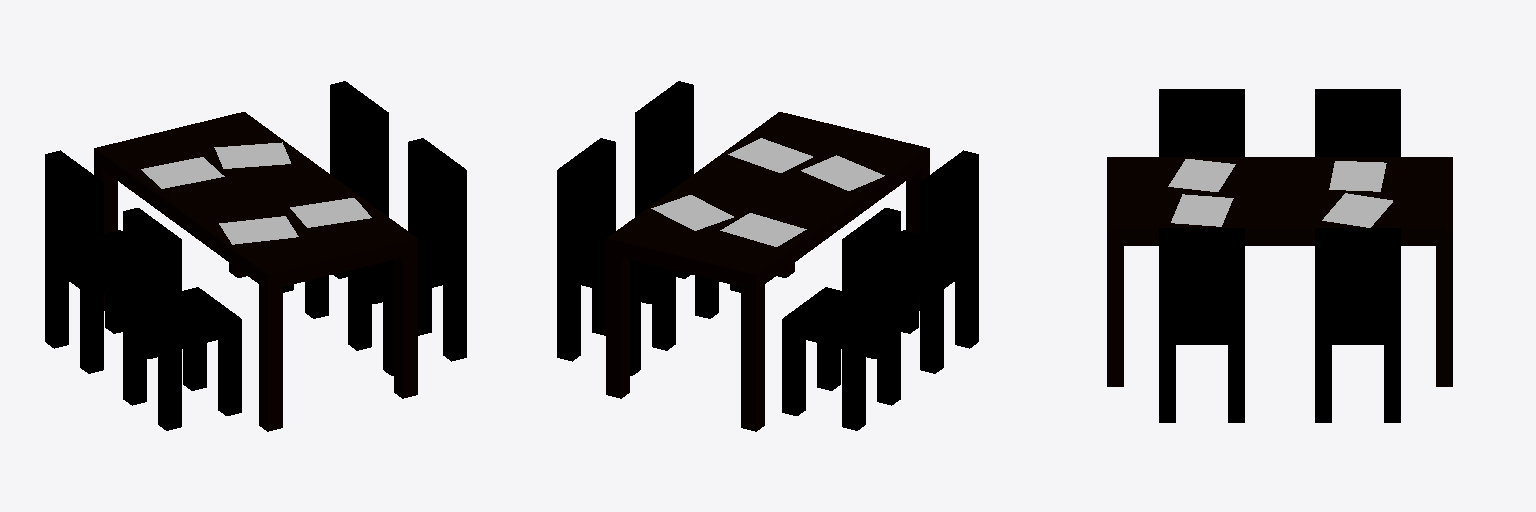
File: RPGTable.obj
3 renders of one model, left to right at view 1: azimuth 30°, elevation 25°; view 2: azimuth 150°, elevation 25°; view 3: azimuth 270°, elevation 25°, orthographic.
Parts seen in each view (by area): view 1: Table, Chair, Chair.002, Chair.003, Chair.001, CharacterSheet.002, CharacterSheet, CharacterSheet.001, CharacterSheet1; view 2: Table, Chair.003, Chair.001, Chair, Chair.002, CharacterSheet1, CharacterSheet.001, CharacterSheet, CharacterSheet.002; view 3: Table, Chair.001, Chair.002, Chair.003, Chair, CharacterSheet, CharacterSheet.001, CharacterSheet1, CharacterSheet.002.
Boxes of the visible parts, x1=… form: Table: x1=94, y1=112, x2=417, y2=431; Chair: x1=123, y1=208, x2=241, y2=430; Chair.002: x1=348, y1=138, x2=466, y2=375; Chair.003: x1=45, y1=150, x2=157, y2=373; Chair.001: x1=283, y1=81, x2=388, y2=318; CharacterSheet.002: x1=219, y1=216, x2=298, y2=244; CharacterSheet: x1=141, y1=157, x2=224, y2=188; CharacterSheet.001: x1=214, y1=142, x2=290, y2=168; CharacterSheet1: x1=290, y1=198, x2=371, y2=227; Table: x1=606, y1=112, x2=929, y2=431; Chair.003: x1=782, y1=208, x2=900, y2=430; Chair.001: x1=557, y1=138, x2=675, y2=375; Chair: x1=866, y1=150, x2=978, y2=373; Chair.002: x1=635, y1=81, x2=740, y2=318; CharacterSheet1: x1=728, y1=138, x2=812, y2=172; CharacterSheet.001: x1=651, y1=195, x2=733, y2=230; CharacterSheet: x1=720, y1=213, x2=806, y2=246; CharacterSheet.002: x1=801, y1=155, x2=884, y2=190; Table: x1=1107, y1=157, x2=1452, y2=386; Chair.001: x1=1315, y1=228, x2=1400, y2=422; Chair.002: x1=1159, y1=228, x2=1244, y2=422; Chair.003: x1=1315, y1=89, x2=1400, y2=156; Chair: x1=1159, y1=89, x2=1244, y2=156; CharacterSheet: x1=1329, y1=161, x2=1386, y2=191; CharacterSheet.001: x1=1322, y1=193, x2=1392, y2=227; CharacterSheet1: x1=1171, y1=194, x2=1233, y2=226; CharacterSheet.002: x1=1168, y1=159, x2=1235, y2=191.
Bounding box in the file's own units: 2 × 1.2 × 2.